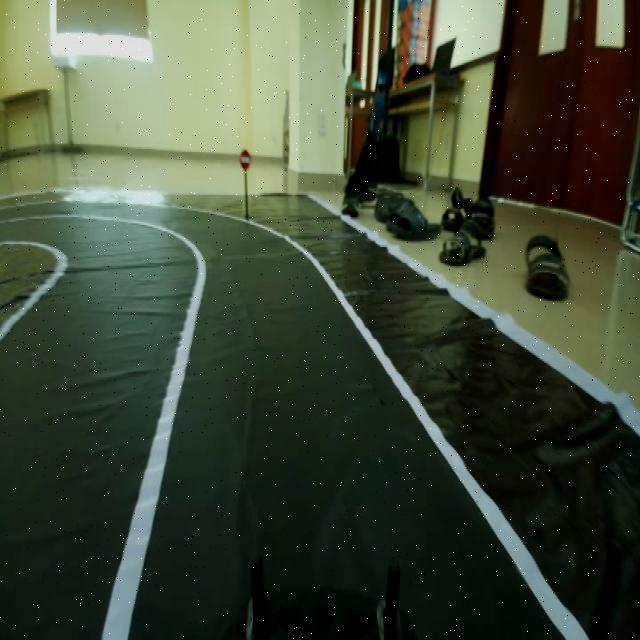no_entry: (235, 143, 257, 174)
